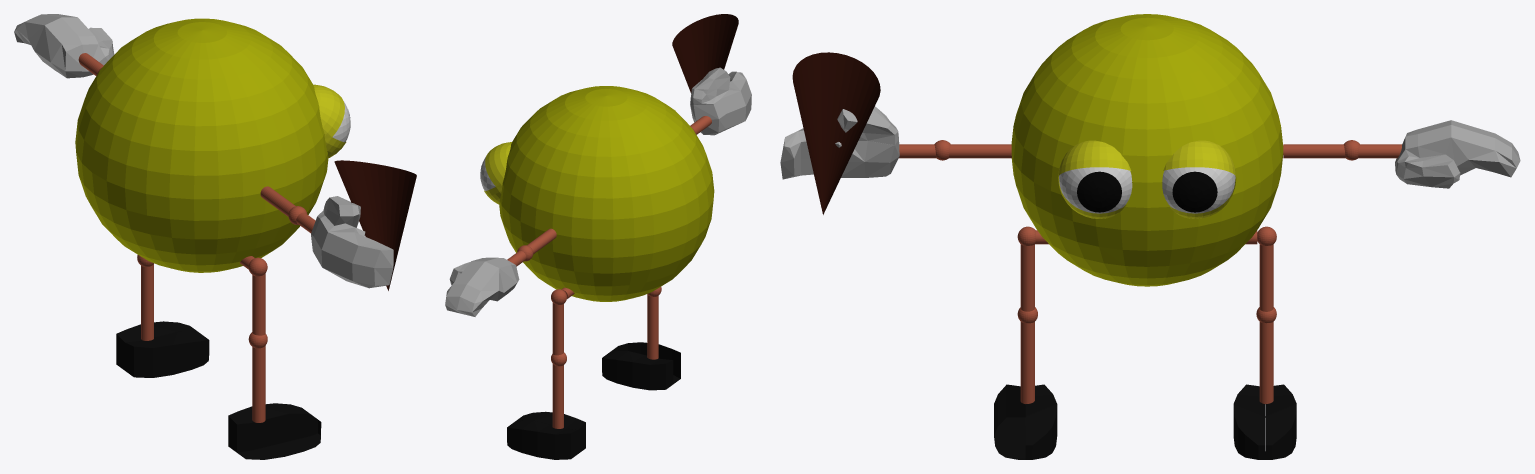
The model's file is Rusko_v2_oneMesh.obj.
3 views of the same model, side by side, from view 1: azimuth 30°, elevation 25°; view 2: azimuth 150°, elevation 25°; view 3: azimuth 270°, elevation 25° (orthographic). The views are drawn at different scales.
Visible parts, largest first — view 1: Shoe.001_Cube.009; view 2: Shoe.001_Cube.009; view 3: Shoe.001_Cube.009.
Boxes of the visible parts, x1,y1,x2,y2 form: Shoe.001_Cube.009: [14, 14, 416, 459]; Shoe.001_Cube.009: [445, 14, 751, 459]; Shoe.001_Cube.009: [780, 14, 1520, 459].
Bounding box in the file's own units: 4.19 × 6.53 × 10.85.
